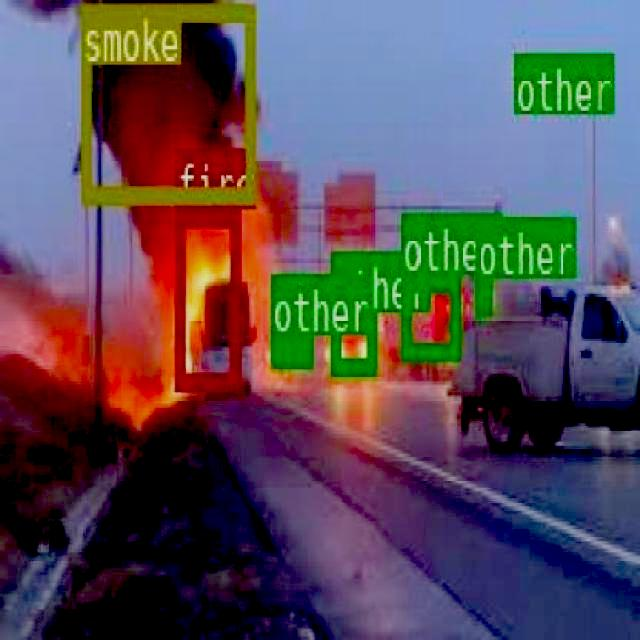fire: (173, 206, 238, 388)
smoke: (80, 2, 254, 200)
